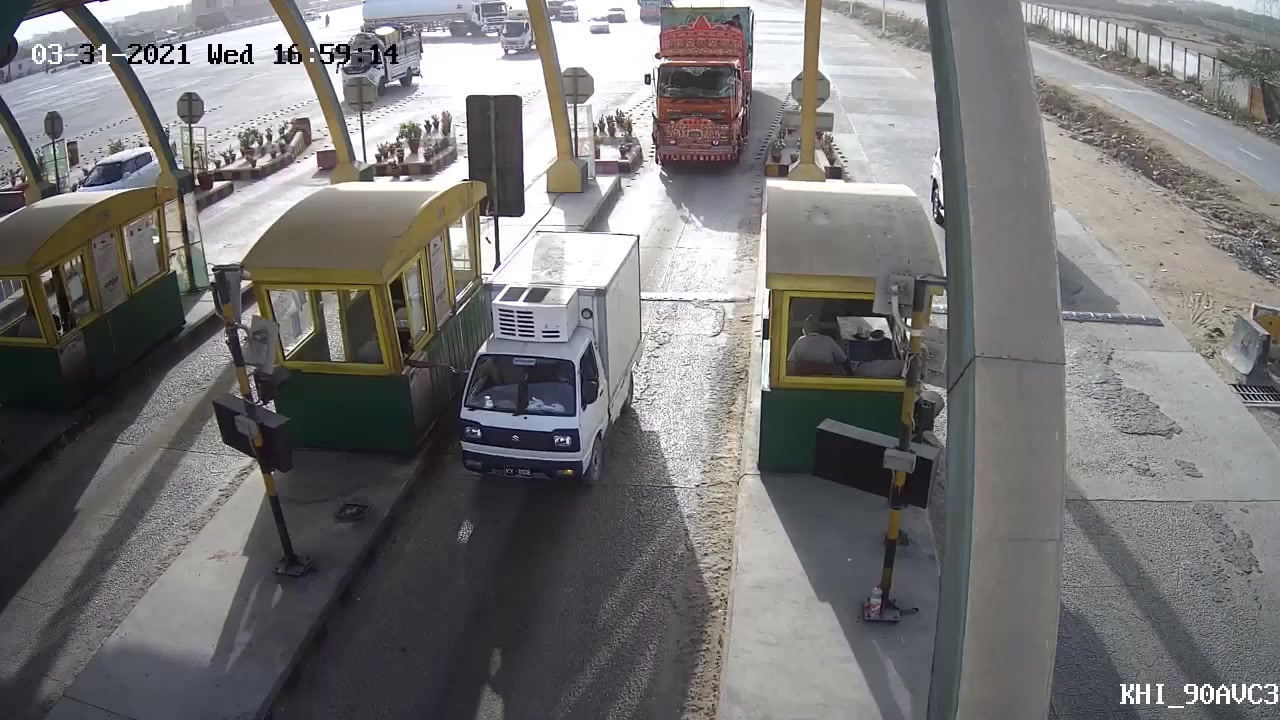F1: (447, 233, 648, 507)
F5: (644, 7, 759, 190)
